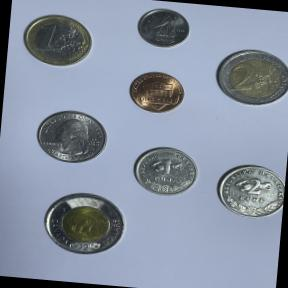coin: (34, 186, 135, 263), (28, 101, 115, 171), (206, 42, 288, 112), (16, 9, 100, 72), (210, 158, 287, 224), (123, 65, 191, 118), (133, 2, 195, 54)
